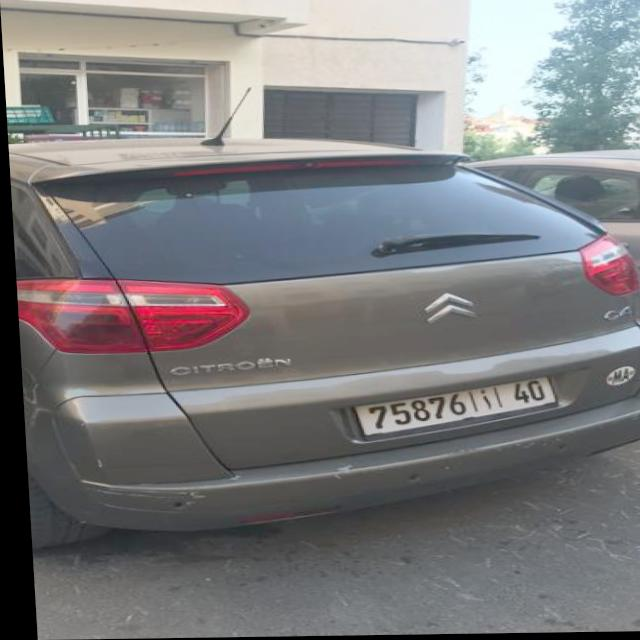License-Plate: (352, 380, 550, 437)
